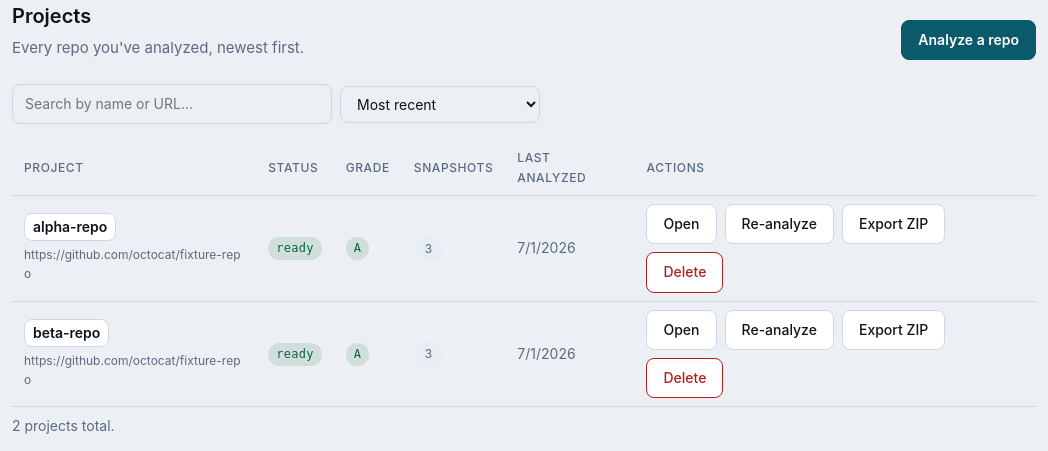
ProjectsPage — row actions › exporting one row does not clear a DIFFERENT row's own busy state
The width and height of the screenshot is (1048, 451).
Expected: the button "alpha-repo" is shown, x1=24 y1=213 x2=116 y2=241
Click the 1st button "Export ZIP" at (894, 224), box x1=842 y1=204 x2=945 y2=244
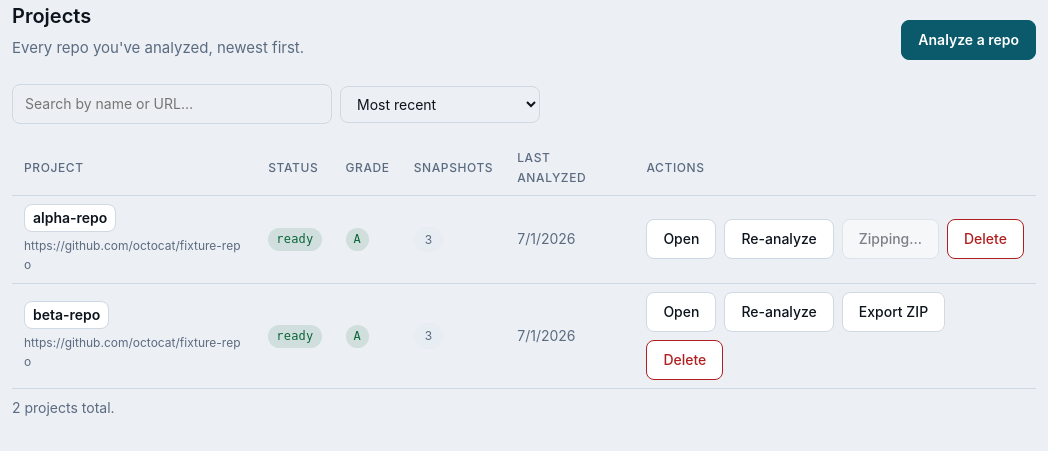
Now the button "Zipping..." is shown, box x1=842 y1=219 x2=939 y2=259
Start a SECOND row's export while the first is still in flight.
Click the button "Export ZIP" at (893, 312), box x1=842 y1=292 x2=945 y2=332
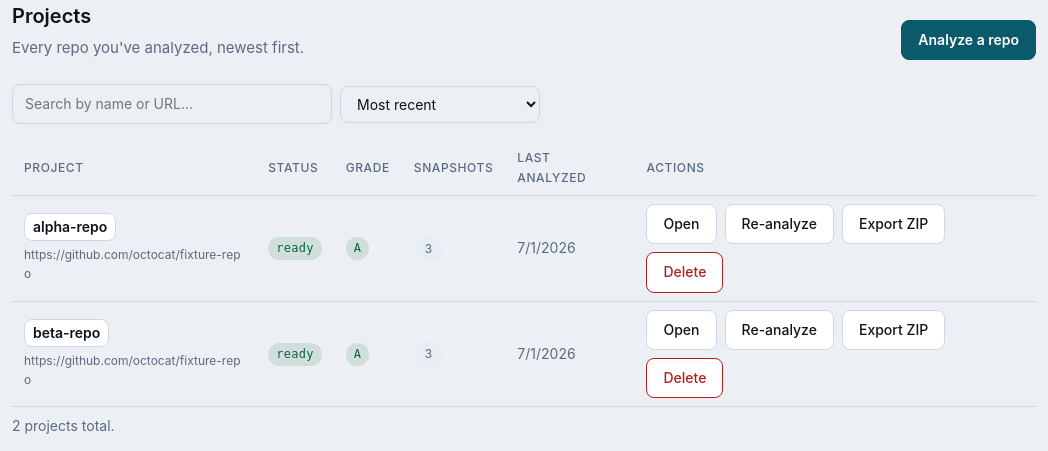
Expected: the 2nd button "Export ZIP" is shown, x1=842 y1=310 x2=945 y2=350
Now the 1st button "Export ZIP" is shown, box x1=842 y1=204 x2=945 y2=244
